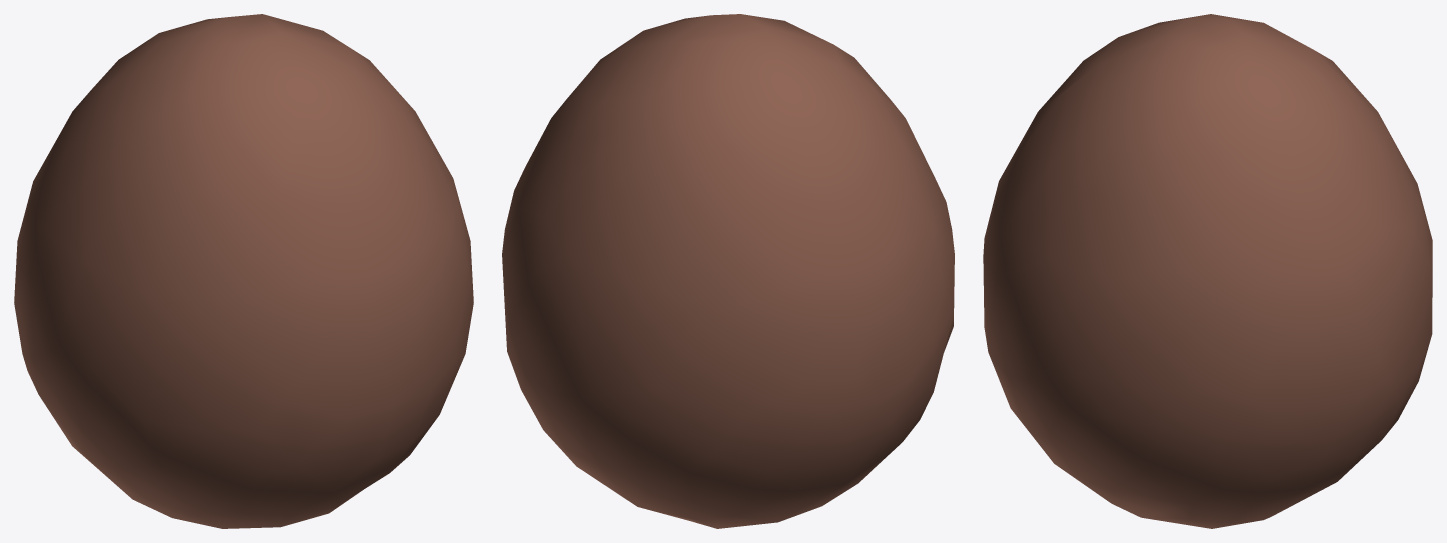
File: Egg_10.glb
3 renders of one model, left to right at view 1: azimuth 30°, elevation 25°; view 2: azimuth 150°, elevation 25°; view 3: azimuth 270°, elevation 25°, orthographic.
Bounding box in the file's own units: 0.0718 × 0.0829 × 0.0707.
